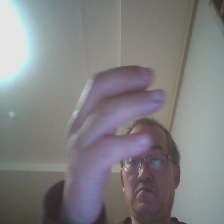hand: (72, 65, 158, 223)
